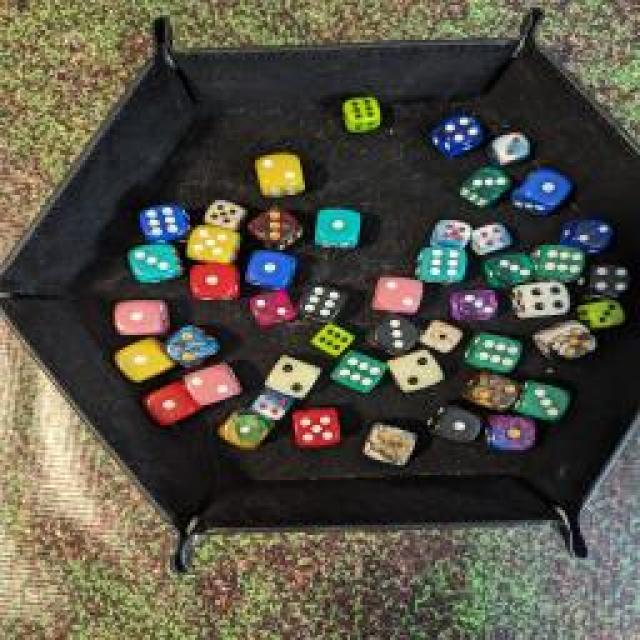dice_1: (510, 164, 575, 221), (108, 338, 174, 384), (300, 208, 372, 250), (218, 405, 280, 453), (139, 382, 201, 426), (108, 296, 170, 339), (421, 400, 484, 442), (242, 245, 300, 290), (188, 260, 242, 305), (482, 410, 538, 452), (416, 316, 466, 356)
dice_2: (365, 270, 437, 318), (255, 348, 320, 398), (384, 346, 448, 394), (251, 149, 311, 199), (183, 362, 245, 410), (479, 121, 546, 164), (466, 370, 526, 415), (161, 324, 224, 366), (560, 216, 615, 246)
dice_3: (114, 240, 191, 282), (250, 203, 312, 255), (509, 380, 571, 425), (451, 164, 511, 206), (482, 249, 542, 289), (446, 282, 504, 322), (361, 315, 419, 355), (578, 296, 630, 329)
dice_4: (505, 278, 573, 324), (426, 112, 484, 156), (468, 219, 514, 259), (584, 262, 634, 296), (252, 388, 296, 420)
dice_5: (536, 318, 602, 368), (182, 217, 240, 265), (284, 402, 344, 446), (201, 195, 249, 235), (425, 212, 475, 250)
dice_6: (327, 347, 395, 395), (128, 197, 192, 245), (360, 421, 420, 469), (329, 92, 391, 138), (464, 326, 521, 376), (526, 240, 589, 282), (295, 279, 345, 326), (412, 241, 470, 281), (302, 319, 358, 359)
